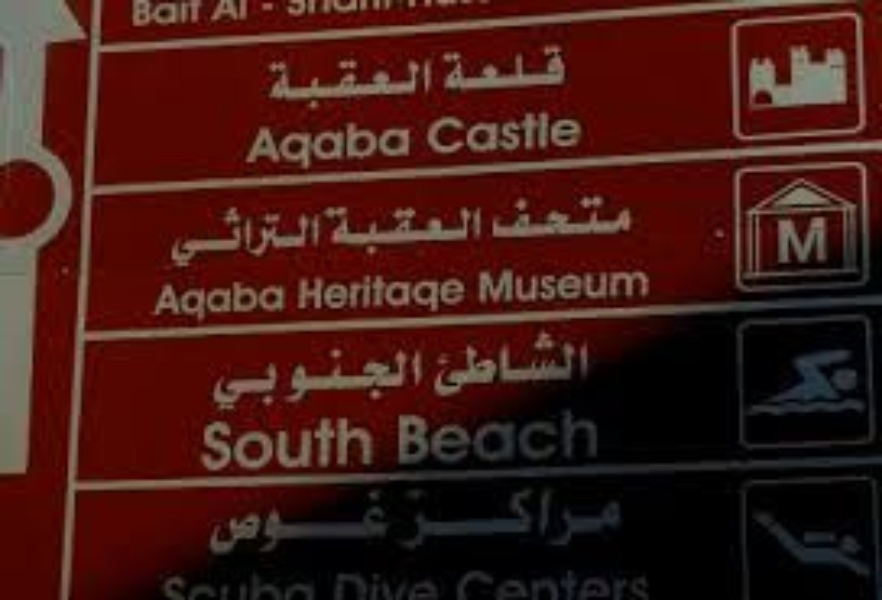text: (241, 338, 256, 416), (257, 338, 272, 416), (273, 338, 288, 416), (289, 338, 304, 416), (305, 338, 320, 416), (321, 338, 336, 416), (337, 338, 352, 416), (353, 338, 368, 416), (369, 338, 384, 416), (385, 338, 400, 416), (401, 338, 416, 416), (209, 484, 224, 558), (225, 484, 240, 558), (241, 484, 256, 558), (257, 484, 272, 558), (273, 484, 288, 558), (289, 484, 304, 558), (305, 484, 320, 558), (321, 484, 336, 558), (337, 484, 352, 558), (353, 484, 368, 558), (369, 484, 384, 558), (449, 328, 464, 399), (465, 328, 480, 399), (481, 328, 496, 399), (497, 328, 512, 399), (513, 328, 528, 399), (529, 328, 544, 399), (545, 328, 560, 399), (561, 328, 576, 399), (401, 484, 416, 552), (417, 484, 432, 552), (433, 484, 448, 552), (449, 484, 464, 552), (465, 484, 480, 552), (481, 484, 496, 552), (497, 484, 512, 552), (513, 484, 528, 552), (529, 484, 544, 552), (545, 484, 560, 552), (561, 484, 576, 552), (577, 484, 592, 552), (593, 484, 608, 552), (227, 338, 240, 416), (577, 328, 591, 399), (177, 205, 192, 270), (193, 205, 208, 270), (209, 205, 224, 270), (225, 205, 240, 270), (241, 205, 256, 270), (257, 205, 272, 270), (273, 205, 288, 270), (289, 205, 304, 270), (305, 205, 320, 270), (609, 484, 623, 552), (435, 328, 448, 399), (401, 409, 416, 468), (417, 409, 432, 468), (433, 409, 448, 468), (449, 409, 464, 468), (465, 409, 480, 468), (481, 409, 496, 468), (497, 409, 512, 468), (513, 409, 528, 468), (529, 409, 544, 468), (545, 409, 560, 468), (561, 409, 576, 468), (577, 409, 592, 468), (273, 56, 288, 114), (289, 56, 304, 114), (305, 56, 320, 114), (321, 56, 336, 114), (337, 56, 352, 114), (353, 56, 368, 114), (369, 56, 384, 114), (385, 56, 400, 114), (401, 56, 416, 114), (417, 56, 432, 114), (209, 416, 224, 474), (225, 416, 240, 474), (241, 416, 256, 474), (257, 416, 272, 474), (273, 416, 288, 474), (289, 416, 304, 474), (305, 416, 320, 474), (321, 416, 336, 474), (337, 416, 352, 474), (353, 416, 368, 474), (337, 202, 352, 257), (353, 202, 368, 257), (369, 202, 384, 257), (385, 202, 400, 257), (401, 202, 416, 257), (417, 202, 432, 257), (433, 202, 448, 257), (449, 202, 464, 257), (465, 202, 480, 257), (241, 121, 256, 172), (257, 121, 272, 172), (273, 121, 288, 172), (289, 121, 304, 172), (305, 121, 320, 172), (321, 121, 336, 172), (337, 121, 352, 172), (353, 121, 368, 172), (369, 121, 384, 172), (385, 121, 400, 172), (401, 121, 416, 172), (785, 215, 800, 266), (801, 215, 816, 266), (195, 416, 208, 474), (433, 111, 448, 159), (449, 111, 464, 159), (465, 111, 480, 159), (481, 111, 496, 159), (497, 111, 512, 159), (513, 111, 528, 159), (529, 111, 544, 159), (545, 111, 560, 159), (561, 111, 576, 159), (497, 189, 512, 237), (513, 189, 528, 237), (529, 189, 544, 237), (545, 189, 560, 237), (561, 189, 576, 237), (577, 189, 592, 237), (593, 189, 608, 237), (609, 189, 624, 237), (449, 43, 464, 91), (465, 43, 480, 91), (481, 43, 496, 91), (497, 43, 512, 91), (513, 43, 528, 91), (529, 43, 544, 91), (545, 43, 560, 91), (481, 260, 496, 305), (497, 260, 512, 305), (513, 260, 528, 305), (529, 260, 544, 305), (545, 260, 560, 305), (561, 260, 576, 305), (577, 260, 592, 305), (593, 260, 608, 305), (609, 260, 624, 305), (625, 260, 640, 305), (593, 409, 604, 468), (161, 279, 176, 322), (177, 279, 192, 322), (193, 279, 208, 322), (209, 279, 224, 322), (225, 279, 240, 322), (241, 279, 256, 322), (257, 279, 272, 322), (305, 270, 320, 312), (321, 270, 336, 312), (337, 270, 352, 312), (353, 270, 368, 312), (369, 270, 384, 312), (385, 270, 400, 312), (401, 270, 416, 312), (417, 270, 432, 312), (433, 270, 448, 312), (449, 270, 464, 312), (417, 338, 425, 416), (325, 202, 336, 257), (146, 279, 160, 322), (385, 484, 393, 558), (273, 279, 286, 322), (625, 189, 636, 237), (263, 56, 272, 114), (817, 215, 827, 266), (292, 270, 304, 312), (641, 260, 652, 305), (577, 111, 587, 159), (561, 43, 571, 91), (369, 416, 377, 474), (775, 215, 784, 266), (169, 205, 176, 270), (129, 1, 144, 30), (145, 1, 160, 30), (161, 1, 176, 30), (177, 1, 192, 30), (193, 1, 208, 30), (209, 1, 224, 30), (225, 1, 240, 30), (241, 1, 256, 30), (257, 1, 272, 30), (273, 1, 288, 30), (289, 1, 304, 30), (305, 1, 320, 30), (321, 1, 336, 30), (337, 1, 352, 30), (353, 1, 368, 30), (369, 1, 384, 30), (385, 1, 400, 30), (401, 1, 416, 30), (417, 1, 432, 30), (433, 1, 448, 30), (449, 1, 464, 30), (161, 568, 176, 597), (177, 568, 192, 597), (193, 568, 208, 597), (209, 568, 224, 597), (225, 568, 240, 597), (241, 568, 256, 597), (257, 568, 272, 597), (273, 568, 288, 597), (289, 568, 304, 597), (305, 568, 320, 597), (321, 568, 336, 597), (337, 568, 352, 597), (353, 568, 368, 597), (369, 568, 384, 597), (385, 568, 400, 597), (401, 568, 416, 597), (417, 568, 432, 597), (433, 568, 448, 597), (449, 568, 464, 597), (465, 568, 480, 597), (481, 568, 496, 597), (497, 568, 512, 597), (513, 568, 528, 597), (529, 568, 544, 597), (545, 568, 560, 597), (561, 568, 576, 597), (577, 568, 592, 597), (593, 568, 608, 597), (609, 568, 624, 597), (625, 568, 640, 597), (487, 189, 496, 237), (465, 1, 477, 30), (425, 111, 432, 159), (442, 43, 448, 91), (396, 484, 400, 552), (474, 260, 480, 305), (396, 409, 400, 468), (641, 568, 649, 597), (481, 202, 484, 257), (433, 56, 435, 114), (124, 1, 128, 30), (417, 121, 419, 172), (321, 205, 322, 270), (159, 568, 160, 597)
